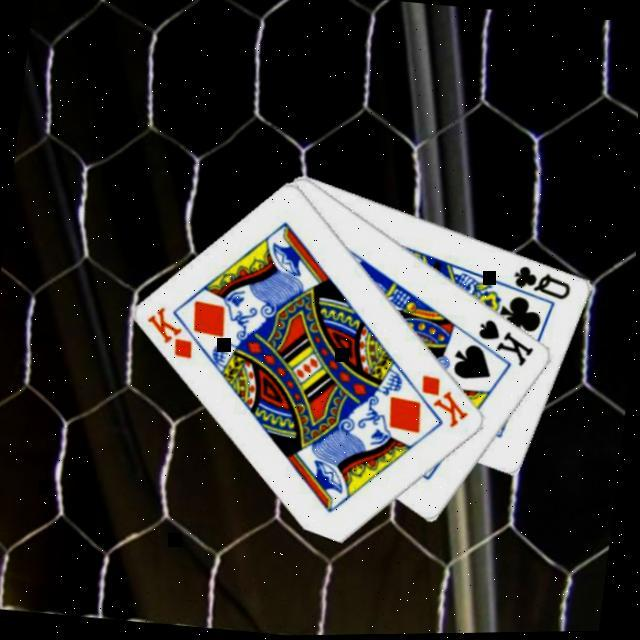KD: (414, 369, 478, 434), (140, 301, 203, 364)
KS: (474, 314, 542, 371)
QC: (510, 261, 578, 304)
